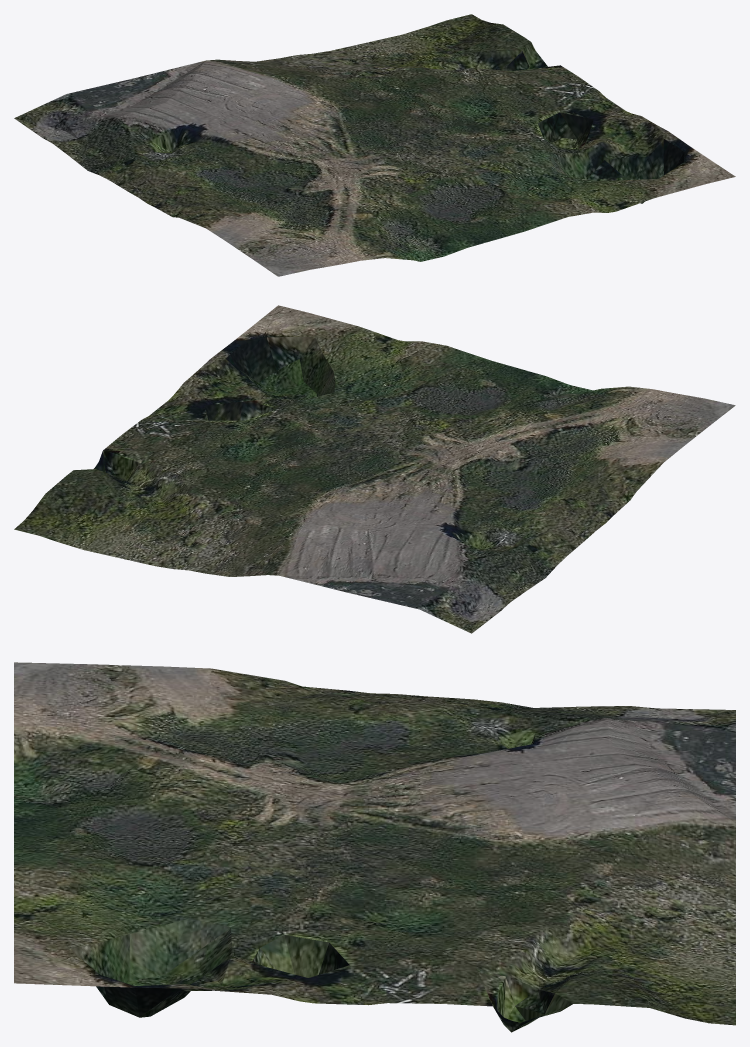
Rendered from map_15_8178_13779.dae.
3 renders of one model, top to bottom at view 1: azimuth 30°, elevation 25°; view 2: azimuth 150°, elevation 25°; view 3: azimuth 270°, elevation 25°, orthographic. The views are drawn at different scales.
Visible parts, largest first — view 1: Ter0; view 2: Ter0; view 3: Ter0.
Boxes of the visible parts, <box> form: Ter0: <box>14,14,735,276</box>; Ter0: <box>14,305,735,633</box>; Ter0: <box>14,662,735,1032</box>.
Size of the model in its own units: 63.88 by 63.88 by 7.28.
Materials: 3 (3 with a texture image).
